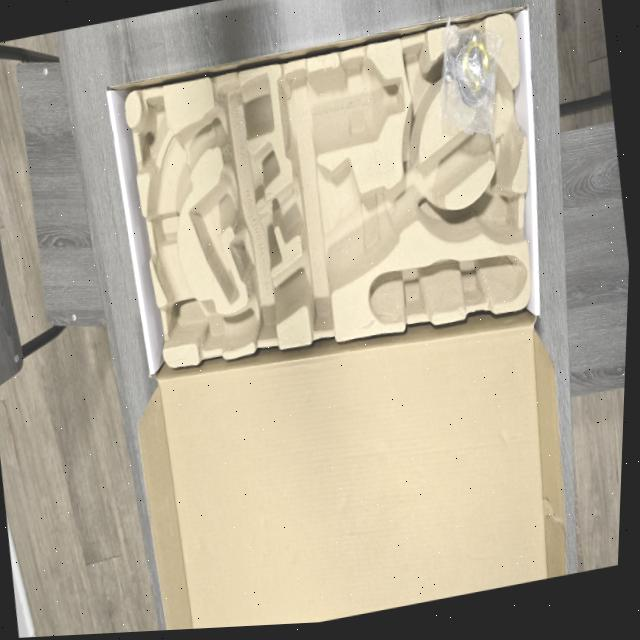1m: (146, 73, 522, 345)
2m: (190, 143, 279, 307)
3m: (276, 58, 403, 159)
4m: (367, 255, 525, 322)
5m: (478, 184, 517, 243)
6: (439, 12, 504, 133)
7m: (400, 40, 434, 135)
